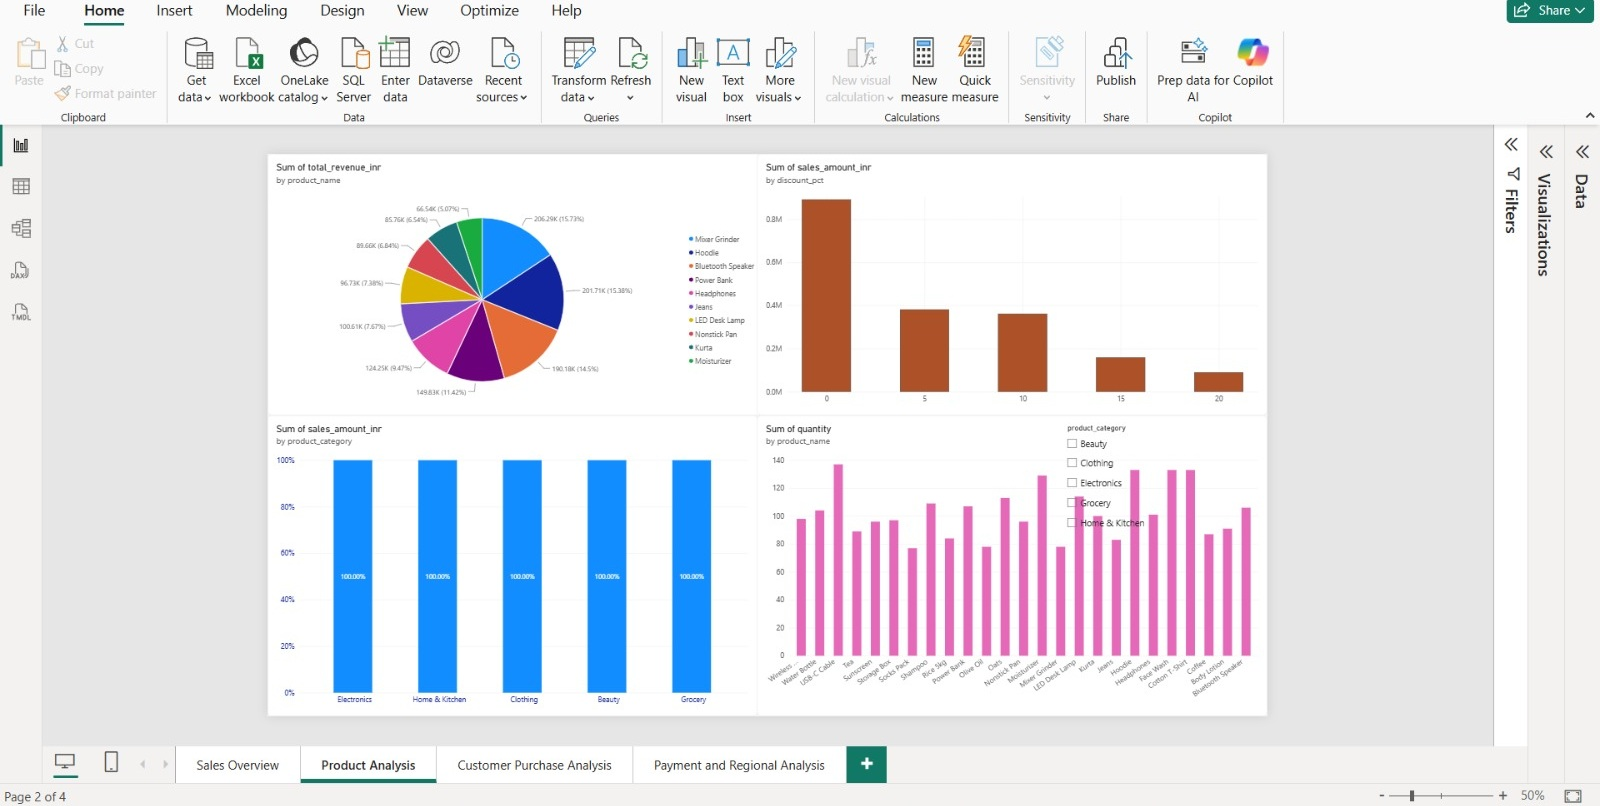

The page's visual inventory and layout, read from the dashboard file:
{"tool":"powerbi","page":{"name":"Product Analysis","canvas":[1920,1080],"ordinal":1},"visuals":[{"type":"clusteredColumnChart","fields":{"Category":["retail_transactions.product_name"],"Y":["Sum(retail_transactions.quantity)"]},"box":[940.8,502.8,979.3,577.9],"z":0},{"type":"hundredPercentStackedColumnChart","fields":{"Category":["retail_transactions.product_category"],"Y":["Sum(retail_transactions.sales_amount_inr)"]},"box":[0,502.8,940.8,577.9],"z":1000},{"type":"slicer","fields":{"Values":["retail_transactions.product_category"]},"box":[1528.8,517,237.2,251.4],"z":2000},{"type":"pieChart","fields":{"Category":["top_products_by_revenue.product_name"],"Y":["Sum(top_products_by_revenue.total_revenue_inr)"]},"box":[0,0,960.8,502],"z":3000},{"type":"clusteredColumnChart","fields":{"Category":["discount_analysis.discount_pct"],"Y":["Sum(retail_transactions.sales_amount_inr)"]},"box":[940.8,0,978.9,502],"z":4000}]}

Visuals, with their boxes on the page's 1920x1080 design canvas (x1, y1, x2, y2). These are canvas units, not pixel positions in the 1600x806 screenshot, which may show the page scaled, cropped or inside an application window:
clusteredColumnChart - retail_transactions.product_name x Sum(retail_transactions.quantity): Rect(941, 503, 1920, 1081)
hundredPercentStackedColumnChart - retail_transactions.product_category x Sum(retail_transactions.sales_amount_inr): Rect(0, 503, 941, 1081)
slicer - retail_transactions.product_category: Rect(1529, 517, 1766, 768)
pieChart - top_products_by_revenue.product_name x Sum(top_products_by_revenue.total_revenue_inr): Rect(0, 0, 961, 502)
clusteredColumnChart - discount_analysis.discount_pct x Sum(retail_transactions.sales_amount_inr): Rect(941, 0, 1920, 502)
